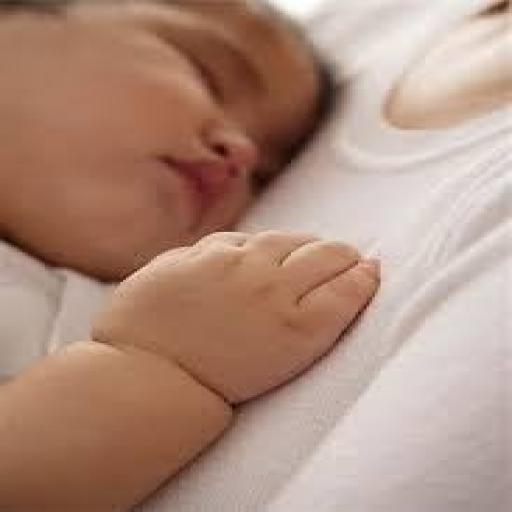sleeping: (0, 0, 383, 510)
